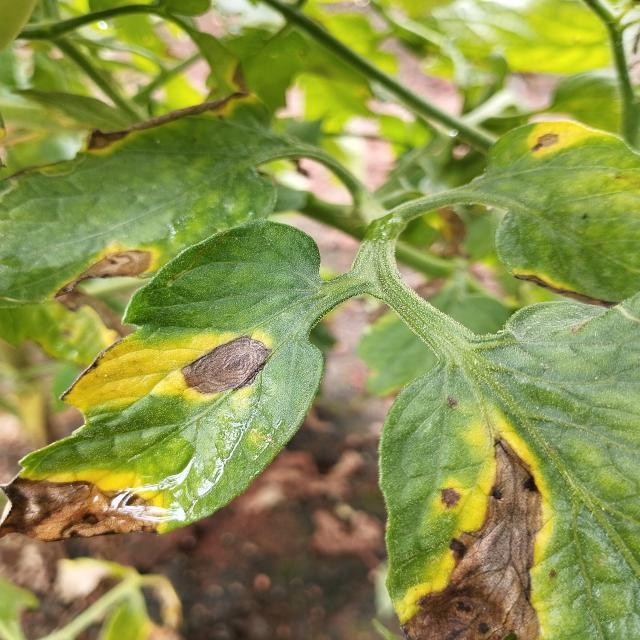Tomato mosaic virus leaf: (372, 358, 640, 640), (52, 218, 332, 432)
